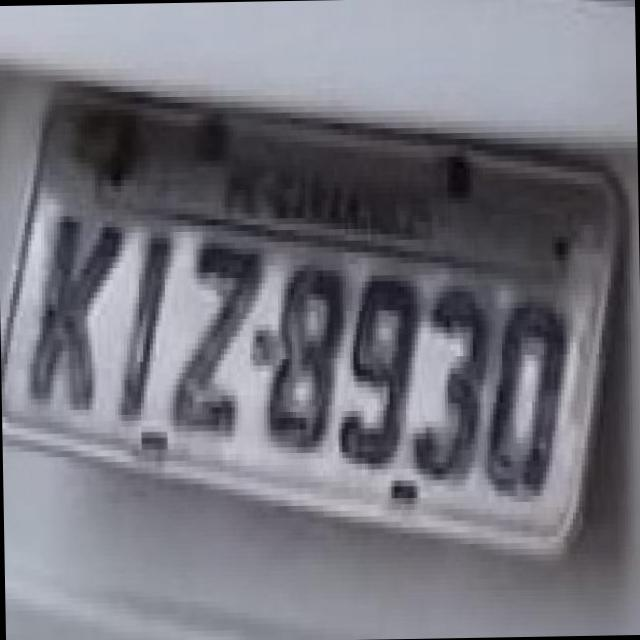0: (468, 278, 582, 497)
1: (98, 202, 186, 420)
3: (396, 262, 501, 480)
9: (325, 250, 429, 470)
B: (250, 241, 354, 454)
K: (14, 192, 130, 410)
Z: (157, 218, 270, 438)
